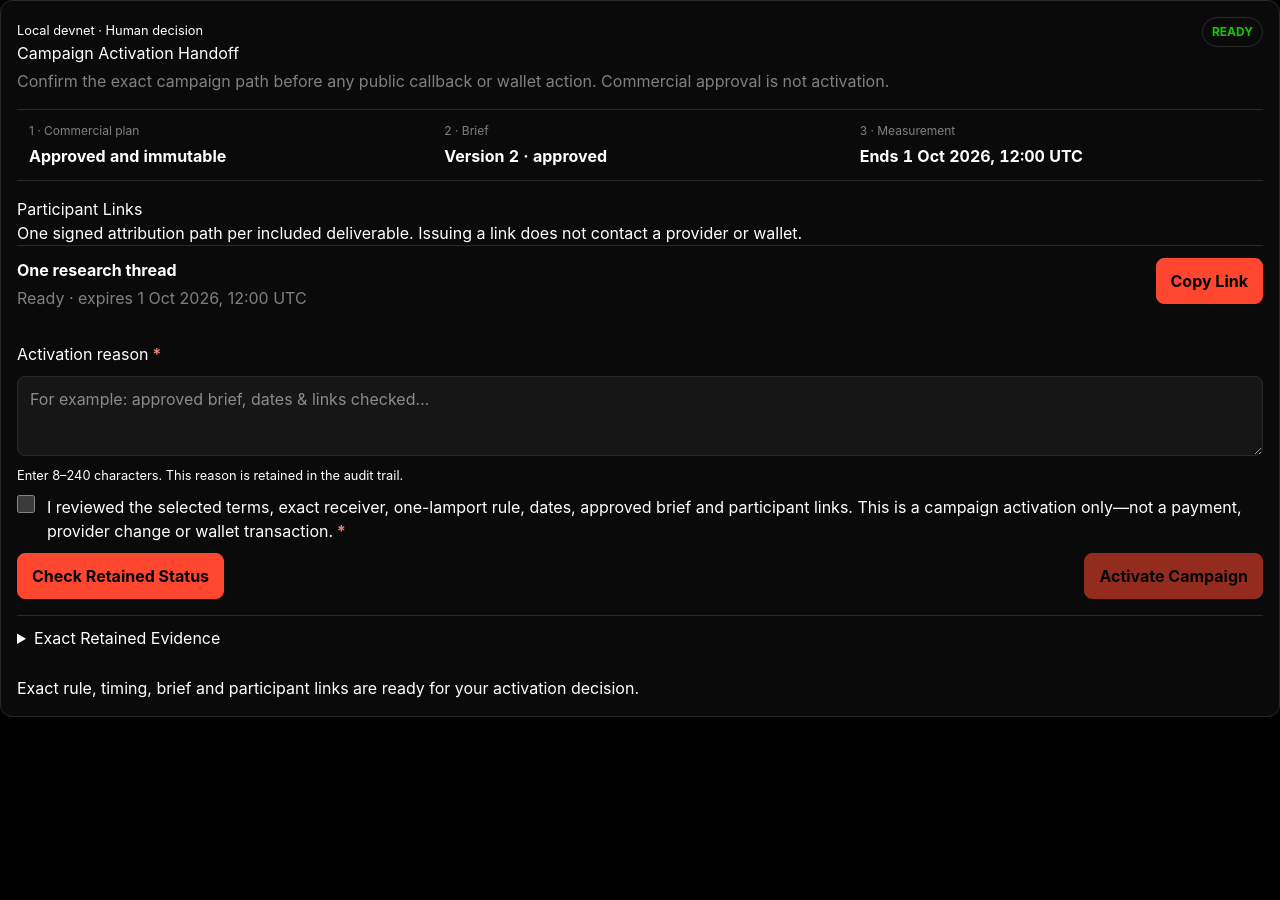
Test case: clears an already displayed manual link when management permission is removed
Click the button with aria-label "Copy signed link for".
click(1209, 281)  # box [1156, 258, 1263, 304]
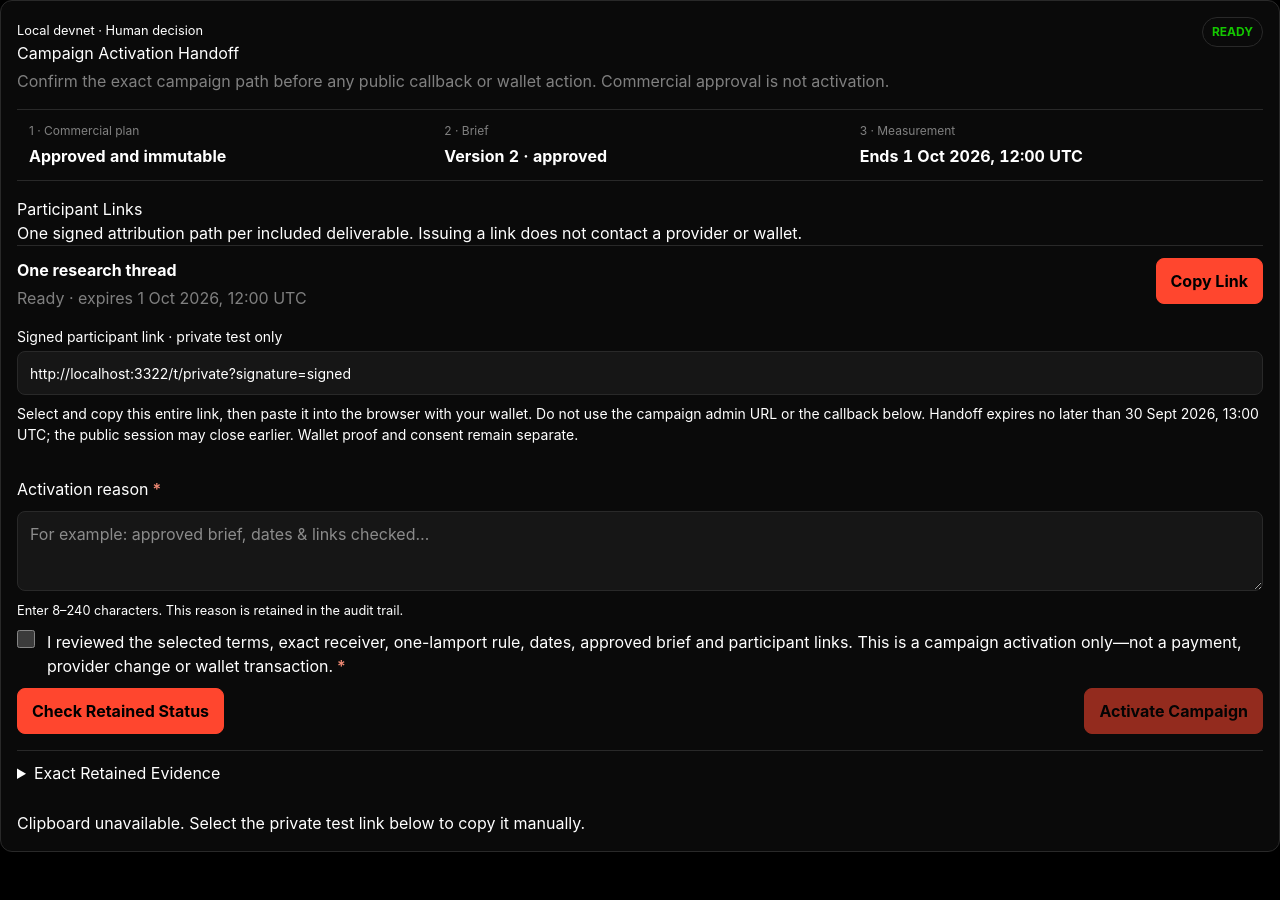
Check: the field labelled "Signed participant link · private test only" is shown, box [17, 351, 1263, 395]
